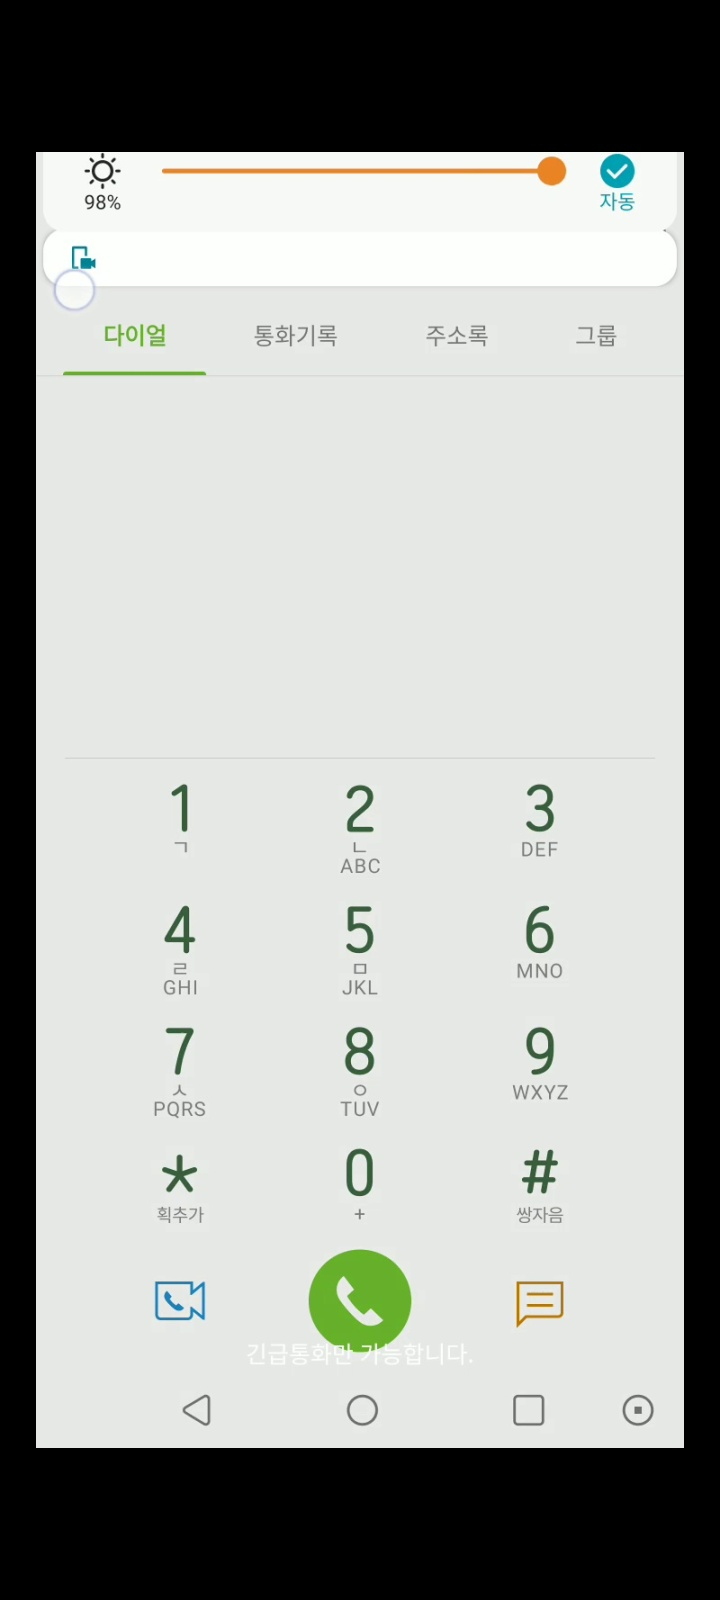Cursor: (53, 268, 98, 313)
